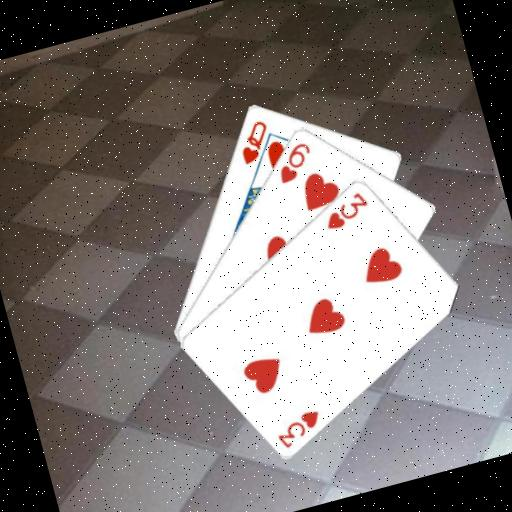3H: (269, 404, 327, 451), (317, 187, 374, 233)
6H: (269, 137, 318, 186)
QH: (230, 115, 276, 167)
